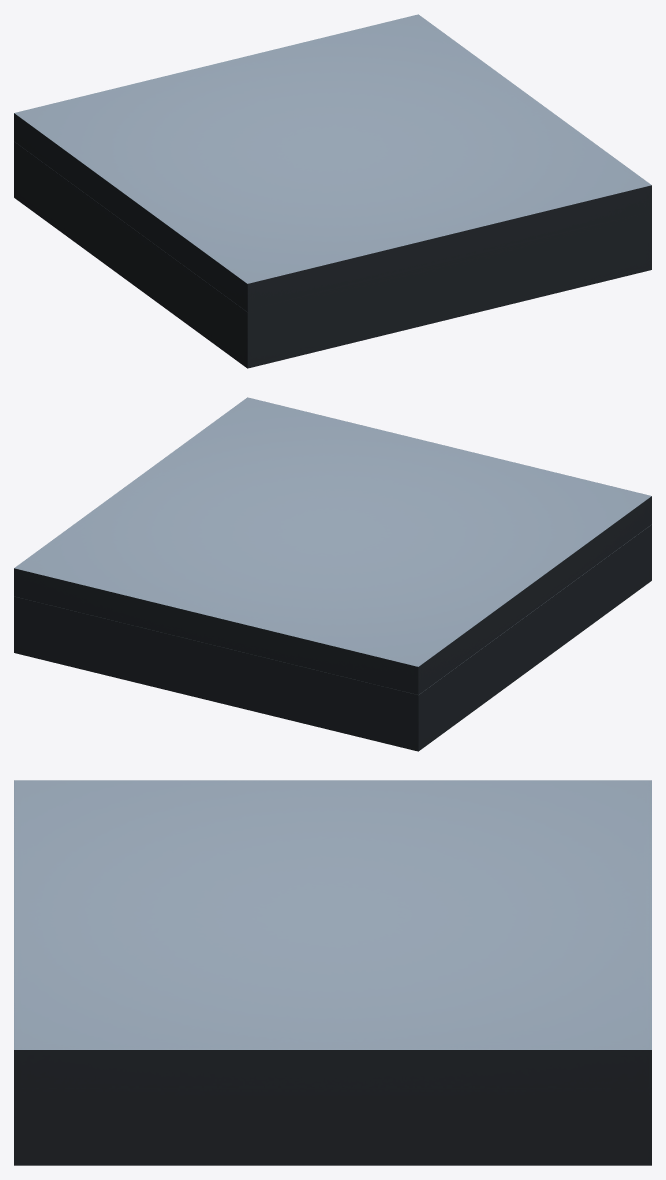
Rendered from tile-road.glb.
3 renders of one model, top to bottom at view 1: azimuth 30°, elevation 25°; view 2: azimuth 150°, elevation 25°; view 3: azimuth 270°, elevation 25°, orthographic. The views are drawn at different scales.
Parts seen in each view (by area): view 1: tile-plain_grass; view 2: tile-plain_grass; view 3: tile-plain_grass.
Part boxes in pixels (x1,y1,x2,y2): tile-plain_grass: (14, 14, 651, 368); tile-plain_grass: (14, 397, 651, 751); tile-plain_grass: (14, 780, 651, 1165).
Size of the model in its own units: 1 by 0.2 by 1.
1 material, 1 textured.
